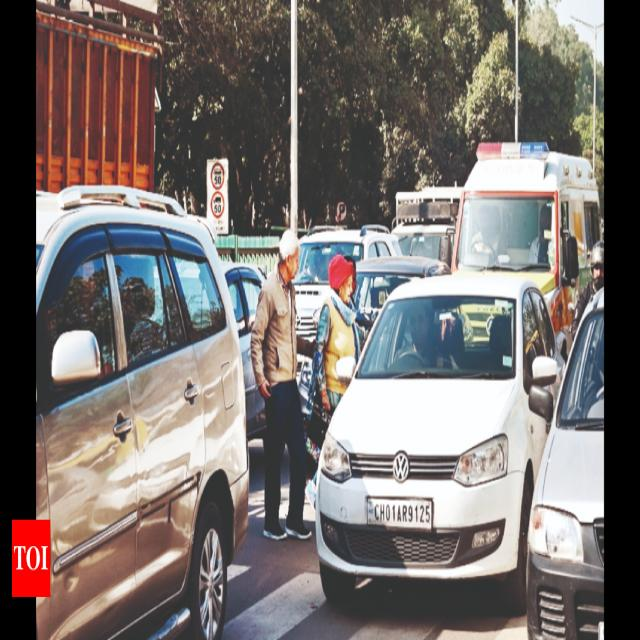car: (36, 184, 249, 639), (316, 274, 558, 612)
emergency: (439, 143, 601, 349)
